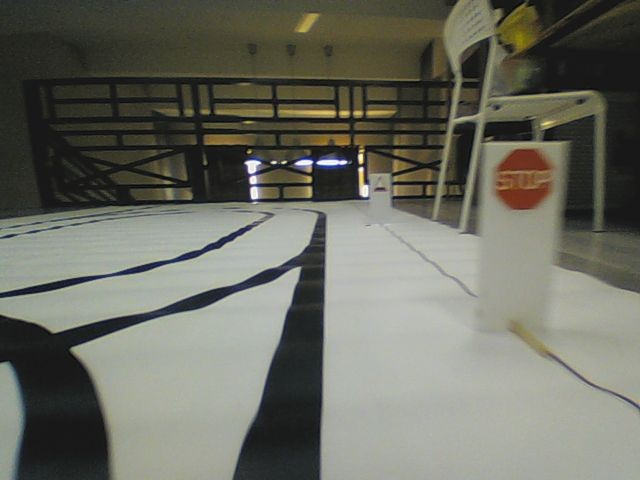Stop: (495, 147, 554, 212)
